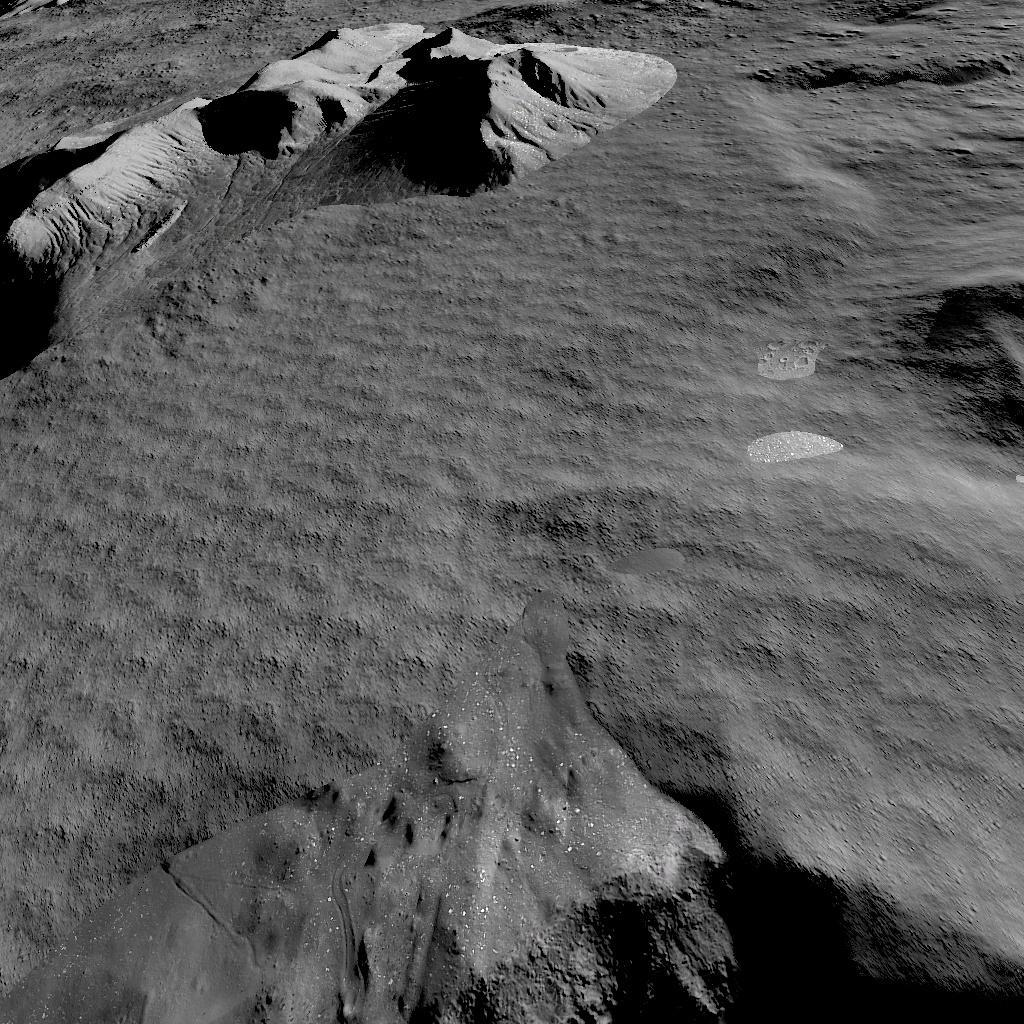Boulders: (0, 22, 675, 382)
Crater: (0, 742, 1024, 1024), (921, 275, 1024, 473)
Plan surface: (0, 395, 908, 728)
